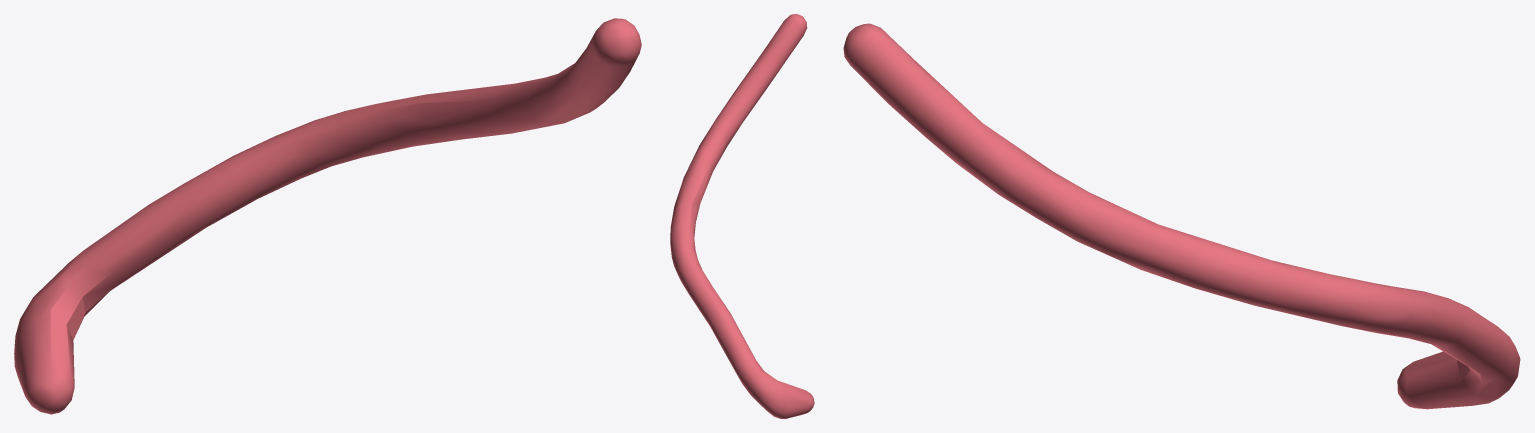
File: fma51291_fj5098.glb
The picture shows the model from 3 angles, left to right: view 1: azimuth 30°, elevation 25°; view 2: azimuth 150°, elevation 25°; view 3: azimuth 270°, elevation 25°; orthographic projection. The views are drawn at different scales.
Visible parts, largest first — view 1: FMA51291_FJ5098; view 2: FMA51291_FJ5098; view 3: FMA51291_FJ5098.
Part boxes in pixels (box(x1,y1,x2,y2)): FMA51291_FJ5098: box(14, 18, 641, 414); FMA51291_FJ5098: box(670, 14, 814, 418); FMA51291_FJ5098: box(843, 23, 1520, 409).
Size of the model in its own units: 0.0173 by 0.0229 by 0.0269.
